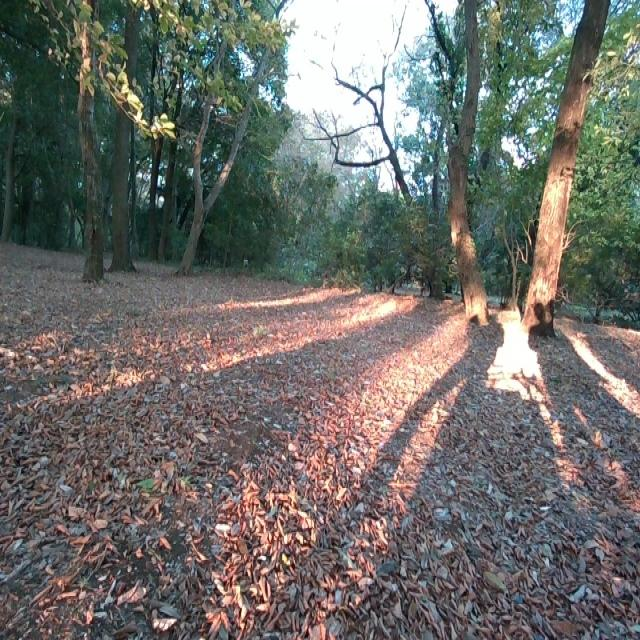bush: (332, 167, 640, 317)
tree: (531, 0, 598, 332), (172, 3, 250, 277), (442, 0, 489, 326), (74, 0, 108, 285), (112, 0, 132, 271)
